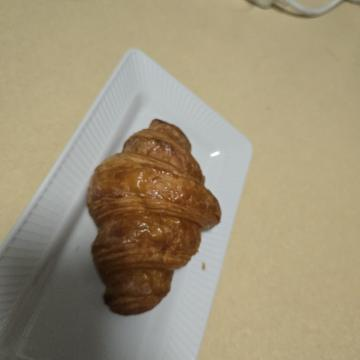croissant: (109, 133, 331, 288)
